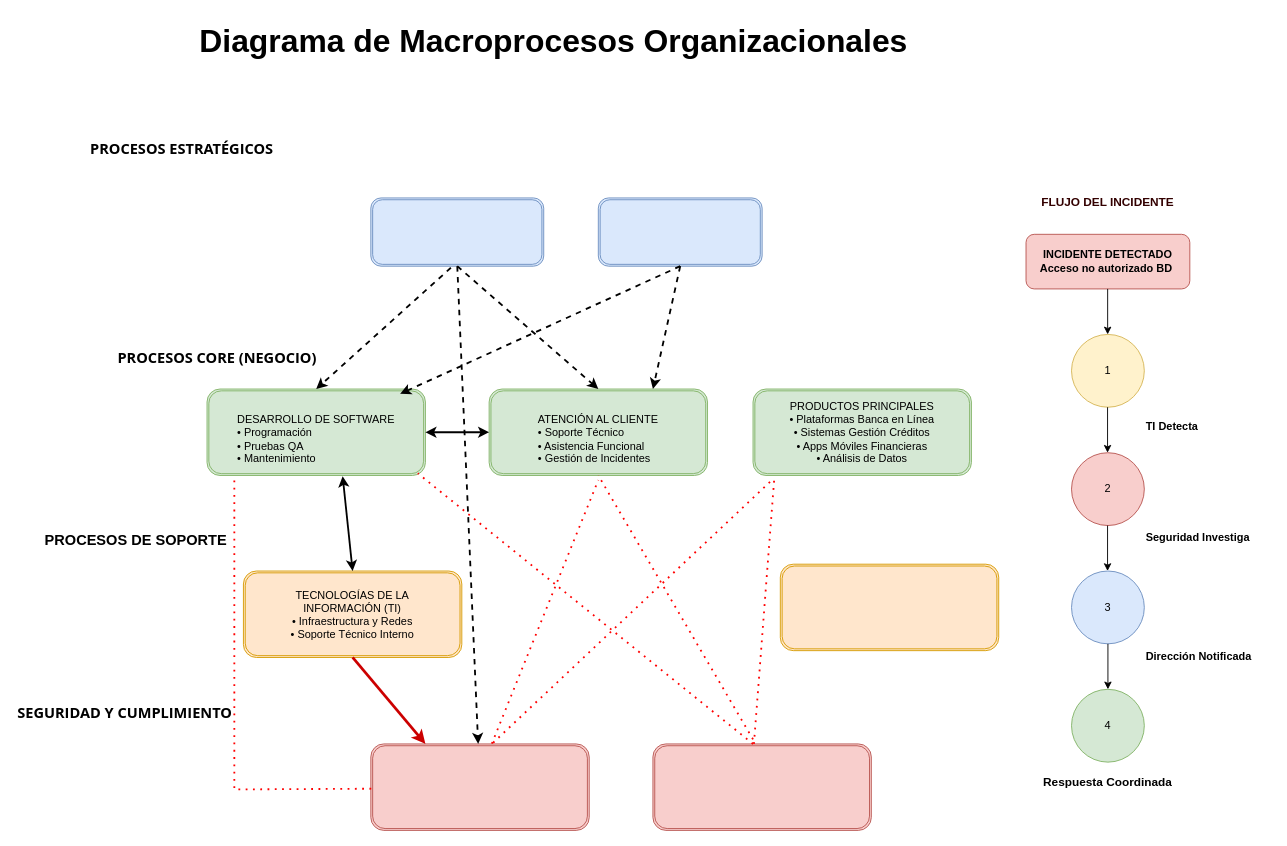
The diagram is 1287 pixels wide and 846 high, and some of its shapes have lost their labels. The box of each missing label's shape, as (x1, y1, x2, y2) in pixels:
ADMINISTRACIÓN • Gestión Financiera • Recursos Humanos • Gestión Administrativa: (779, 563, 999, 651)
CUMPLIMIENTO NORMATIVO Y LEGAL • ISO 27001, PCI-DSS • Regulaciones Locales "SIB": (652, 743, 871, 830)
DIRECCIÓN GENERAL • Planificación Estratégica • Gestión de Recursos: (370, 197, 544, 266)
SEGURIDAD DE LA INFORMACIÓN • Protección de Datos • Gestión de Incidentes: (370, 743, 589, 830)
VENTAS Y MARKETING • Gestión Comercial • Relaciones con Clientes: (597, 197, 762, 266)
